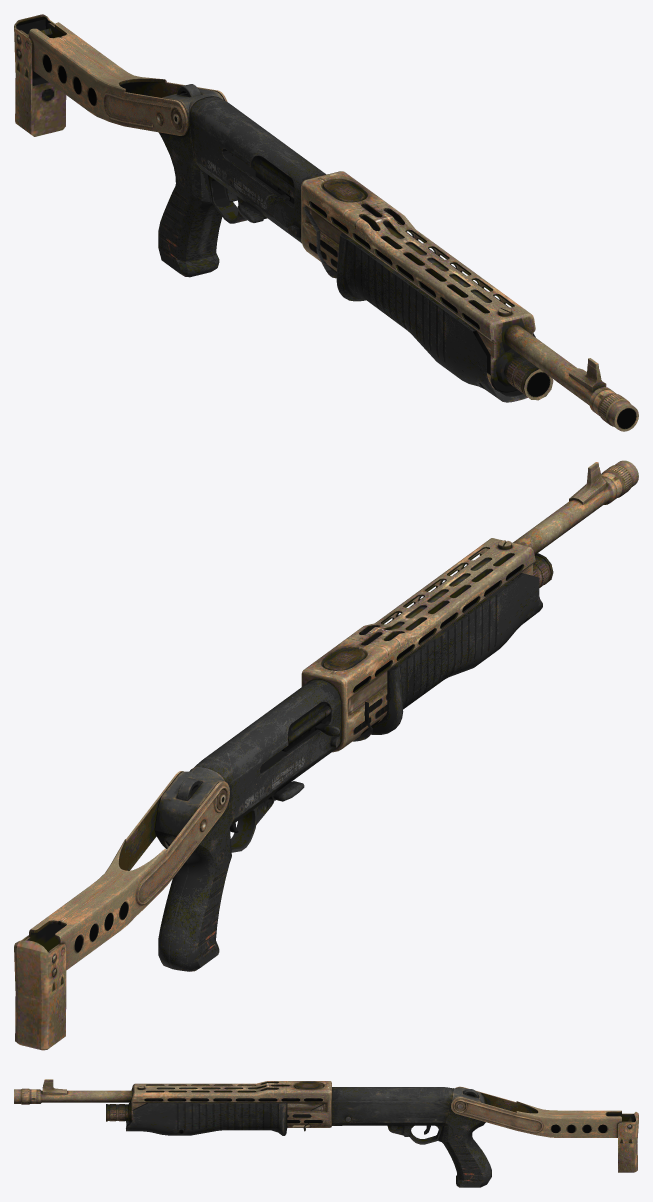
File: SPAS 12.FBX
The picture shows the model from 3 angles, top to bottom: view 1: azimuth 30°, elevation 25°; view 2: azimuth 150°, elevation 25°; view 3: azimuth 270°, elevation 25°; orthographic projection. The views are drawn at different scales.
Parts seen in each view (by area): view 1: Mesh_0010, POMPEH, EJECTIONPORT; view 2: Mesh_0010, POMPEH, EJECTIONPORT; view 3: Mesh_0010, POMPEH.
Boxes of the visible parts, bbox=[...] form: Mesh_0010: bbox=[14, 14, 638, 431]; POMPEH: bbox=[336, 232, 535, 402]; EJECTIONPORT: bbox=[252, 156, 294, 205]; Mesh_0010: bbox=[14, 460, 638, 1050]; POMPEH: bbox=[371, 565, 542, 734]; EJECTIONPORT: bbox=[282, 702, 339, 751]; Mesh_0010: bbox=[14, 1079, 638, 1187]; POMPEH: bbox=[126, 1102, 287, 1135].
Size of the model in its own units: 6.21 by 17.16 by 92.58.
